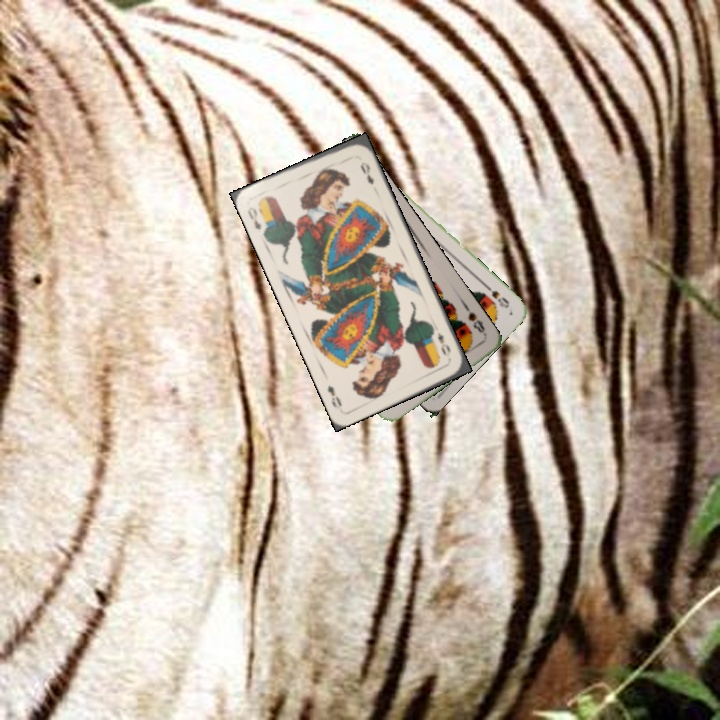EO: (243, 203, 264, 232), (433, 328, 453, 358)
S8: (464, 308, 489, 338)
SO: (480, 280, 512, 311)
